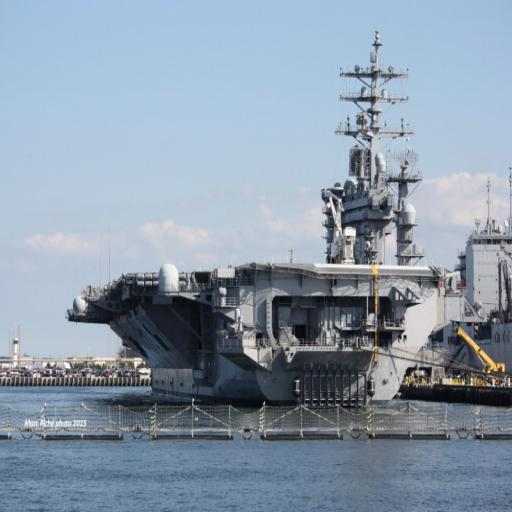Portanaves: (62, 26, 488, 409)
